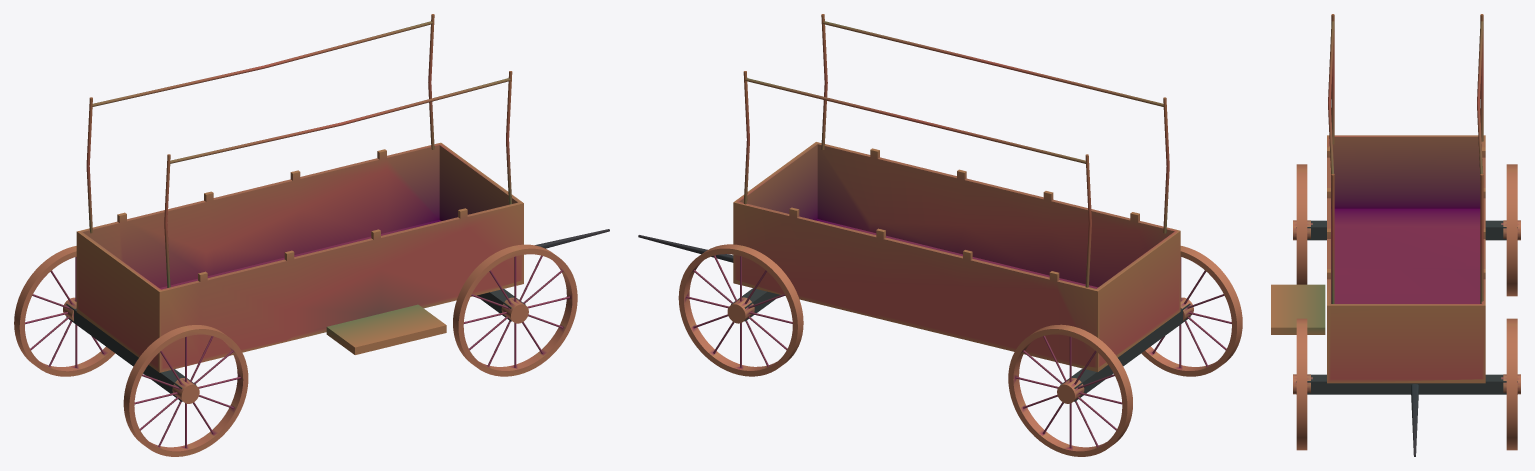
3 renders of one model, left to right at view 1: azimuth 30°, elevation 25°; view 2: azimuth 150°, elevation 25°; view 3: azimuth 270°, elevation 25°, orthographic. The views are drawn at different scales.
Visible parts, largest first — view 1: floor, rim.003, rim, step, rim.001, axle, rail, rail.001; view 2: floor, rim.001, rim.002, rim, axle, rail.001, rail; view 3: floor, step, axle.003, rim.002, rim.001, rim.003, rim, axle, rail.001, rail, post.001, post.003 (+3 smaller).
Part boxes in pixels (x1,y1,x2,y2): floor: (76, 142, 523, 372); rim.003: (453, 244, 577, 376); rim: (123, 325, 248, 456); step: (326, 304, 446, 354); rim.001: (14, 246, 114, 376); axle: (66, 303, 196, 401); rail: (170, 78, 511, 163); rail.001: (92, 21, 433, 106); floor: (733, 142, 1180, 372); rim.001: (1008, 324, 1132, 456); rim.002: (678, 244, 803, 376); rim: (1141, 246, 1242, 376); axle: (1060, 303, 1190, 401); rail.001: (745, 78, 1086, 163); rail: (823, 21, 1163, 106); floor: (1327, 135, 1485, 383); step: (1271, 284, 1325, 334); axle.003: (1296, 374, 1517, 394); rim.002: (1501, 318, 1520, 450); rim.001: (1501, 164, 1520, 296); rim.003: (1293, 318, 1312, 450); rim: (1293, 164, 1312, 284); axle: (1296, 220, 1517, 240); rail.001: (1477, 21, 1483, 175); rail: (1328, 21, 1334, 174); post.001: (1331, 174, 1334, 303); post.003: (1480, 174, 1483, 303).
Bounding box in the file's own units: 2.5 × 1.27 × 1.04.
